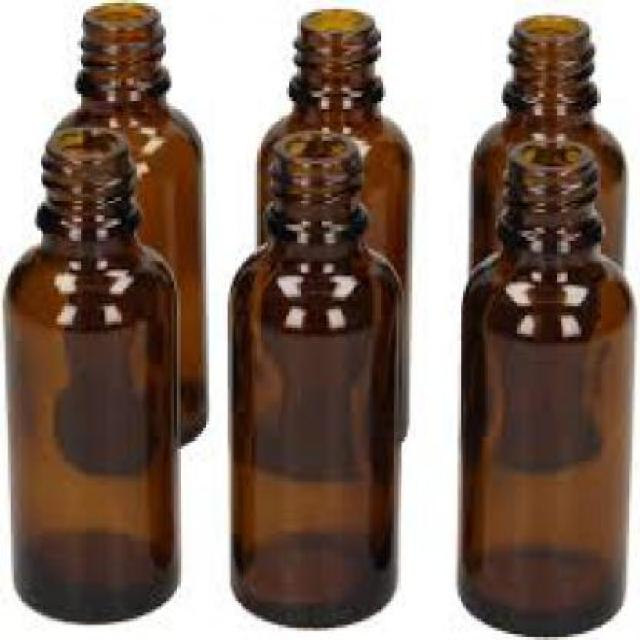kaca: (0, 124, 174, 622), (460, 137, 632, 637), (228, 125, 397, 624), (49, 0, 205, 446), (255, 6, 408, 440), (469, 12, 622, 278)
